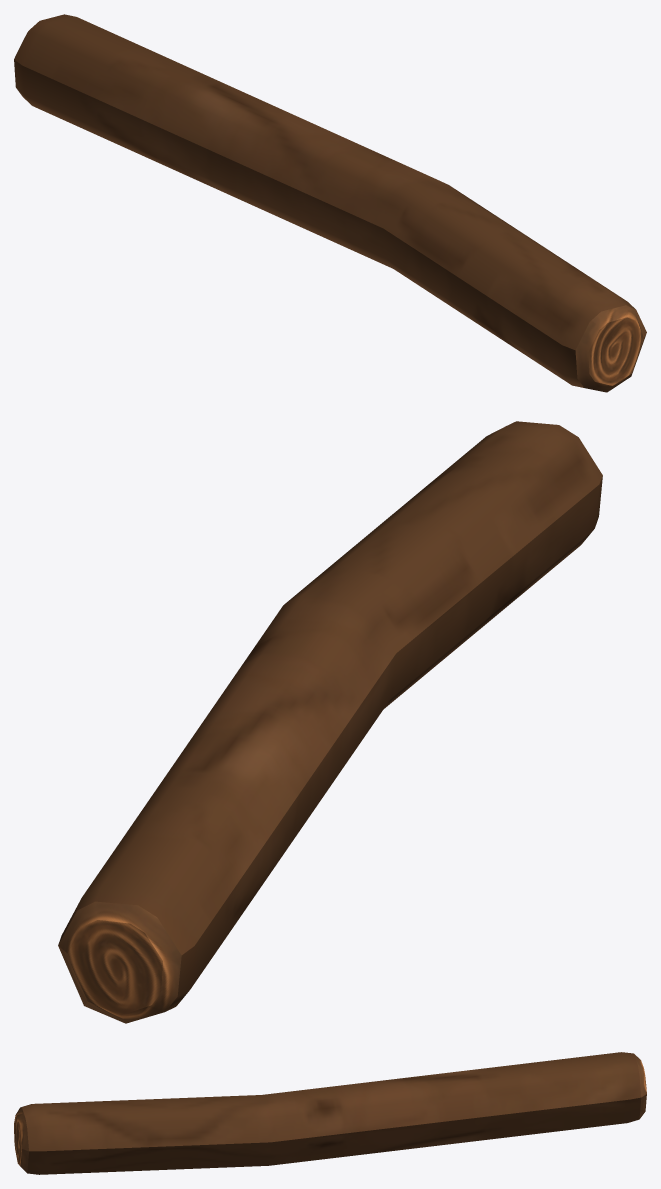
Rendered from log_1.FBX.
3 renders of one model, top to bottom at view 1: azimuth 30°, elevation 25°; view 2: azimuth 150°, elevation 25°; view 3: azimuth 270°, elevation 25°, orthographic. The views are drawn at different scales.
Parts seen in each view (by area): view 1: log 1; view 2: log 1; view 3: log 1.
Part boxes in pixels (bbox=[...]): log 1: bbox=[14, 14, 646, 392]; log 1: bbox=[58, 421, 602, 1023]; log 1: bbox=[14, 1052, 646, 1174].
Bounding box in the file's own units: 29.06 × 12.98 × 105.
